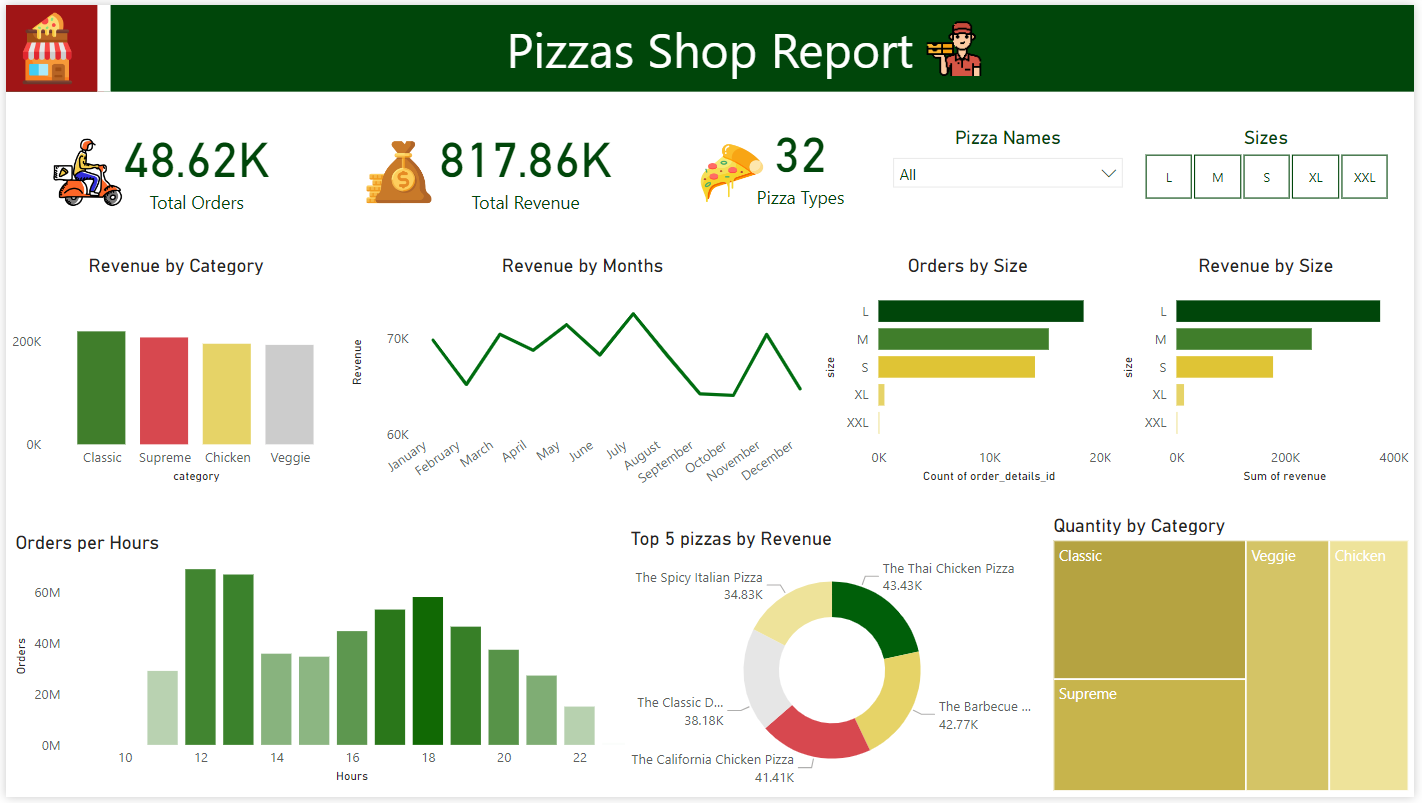

This screenshot's page, from the dashboard's own definition file:
{"tool":"powerbi","page":{"name":"Page 1","canvas":[1280,720],"ordinal":0},"visuals":[{"type":"clusteredColumnChart","title":"Revenue by Category","fields":{"Category":["Query1.category"],"Y":["Sum(Query1.revenue)"]},"box":[0,226.6,309.3,212],"z":0},{"type":"columnChart","title":"Orders per Hours","fields":{"Category":["Query1.time"],"Y":["Sum(Query1.order_id)"]},"box":[3.9,478.5,570.9,233.4],"z":1000},{"type":"treemap","title":"Quantity by Category","fields":{"Group":["Query1.category"],"Values":["Sum(Query1.quantity)"]},"box":[947.4,463,332.6,256.8],"z":2000},{"type":"card","fields":{"Values":["CountNonNull(Query1.order_details_id)"]},"box":[89.5,93.4,168.3,106],"z":3000},{"type":"donutChart","title":"Top 5 pizzas by Revenue","fields":{"Category":["Query1.name"],"Y":["Sum(Query1.revenue)"]},"box":[563.2,474.7,376.4,241.2],"z":4000},{"type":"shape","box":[0,0,1280,78.8],"z":5000},{"type":"shape","box":[0,0,89.5,78.8],"z":6000},{"type":"shape","box":[75.9,0,27.2,78.8],"z":7000},{"type":"card","fields":{"Values":["Count(Query1.name)"]},"box":[646.8,93.4,149.8,96.3],"z":8000},{"type":"card","fields":{"Values":["Sum(Query1.revenue)"]},"box":[382.2,93.4,180.9,106],"z":9000},{"type":"lineChart","title":"Revenue by Months","fields":{"Y":["Sum(Query1.revenue)"],"Category":["Query1.date.Variation.Date Hierarchy.Month"]},"box":[309.3,226.6,429.9,231.5],"z":10000},{"type":"image","box":[625.4,114.8,69.1,74.9],"z":11000},{"type":"image","box":[0,0,74.9,78.8],"z":12000},{"type":"image","box":[827.7,7.8,68.1,63.2],"z":13000},{"type":"image","box":[322.9,114.8,69.1,74.9],"z":14000},{"type":"barChart","title":"Revenue by Size","fields":{"Category":["Query1.size"],"Y":["Sum(Query1.revenue)"]},"box":[1009.6,221.8,270.4,216.9],"z":15000},{"type":"barChart","title":"Orders by Size","fields":{"Category":["Query1.size"],"Y":["CountNonNull(Query1.order_details_id)"]},"box":[739.2,226.6,270.4,212],"z":16000},{"type":"slicer","title":"Sizes","fields":{"Values":["Query1.size"]},"box":[1009.6,109.9,270.4,72.9],"z":17000},{"type":"slicer","title":"Pizza Names","fields":{"Values":["Query1.name"]},"box":[796.6,109.9,228.6,72.9],"z":18000},{"type":"image","box":[33.1,114.8,82.7,74.9],"z":18001}]}

Visuals, with their boxes in screenshot pixels (x1, y1, x2, y2), scaled from the page's 1280x720 canvas onto the 1422x803 screenshot:
"Revenue by Category" clusteredColumnChart: bbox(0, 253, 344, 489)
"Orders per Hours" columnChart: bbox(4, 534, 639, 794)
"Quantity by Category" treemap: bbox(1053, 516, 1421, 802)
card - CountNonNull(Query1.order_details_id): bbox(99, 104, 286, 222)
"Top 5 pizzas by Revenue" donutChart: bbox(626, 529, 1044, 798)
shape: bbox(0, 0, 1421, 88)
shape: bbox(0, 0, 99, 88)
shape: bbox(84, 0, 115, 88)
card - Count(Query1.name): bbox(719, 104, 885, 212)
card - Sum(Query1.revenue): bbox(425, 104, 626, 222)
"Revenue by Months" lineChart: bbox(344, 253, 821, 511)
image: bbox(695, 128, 772, 212)
image: bbox(0, 0, 83, 88)
image: bbox(920, 9, 995, 79)
image: bbox(359, 128, 435, 212)
"Revenue by Size" barChart: bbox(1122, 247, 1421, 489)
"Orders by Size" barChart: bbox(821, 253, 1122, 489)
"Sizes" slicer: bbox(1122, 123, 1421, 204)
"Pizza Names" slicer: bbox(885, 123, 1139, 204)
image: bbox(37, 128, 129, 212)
